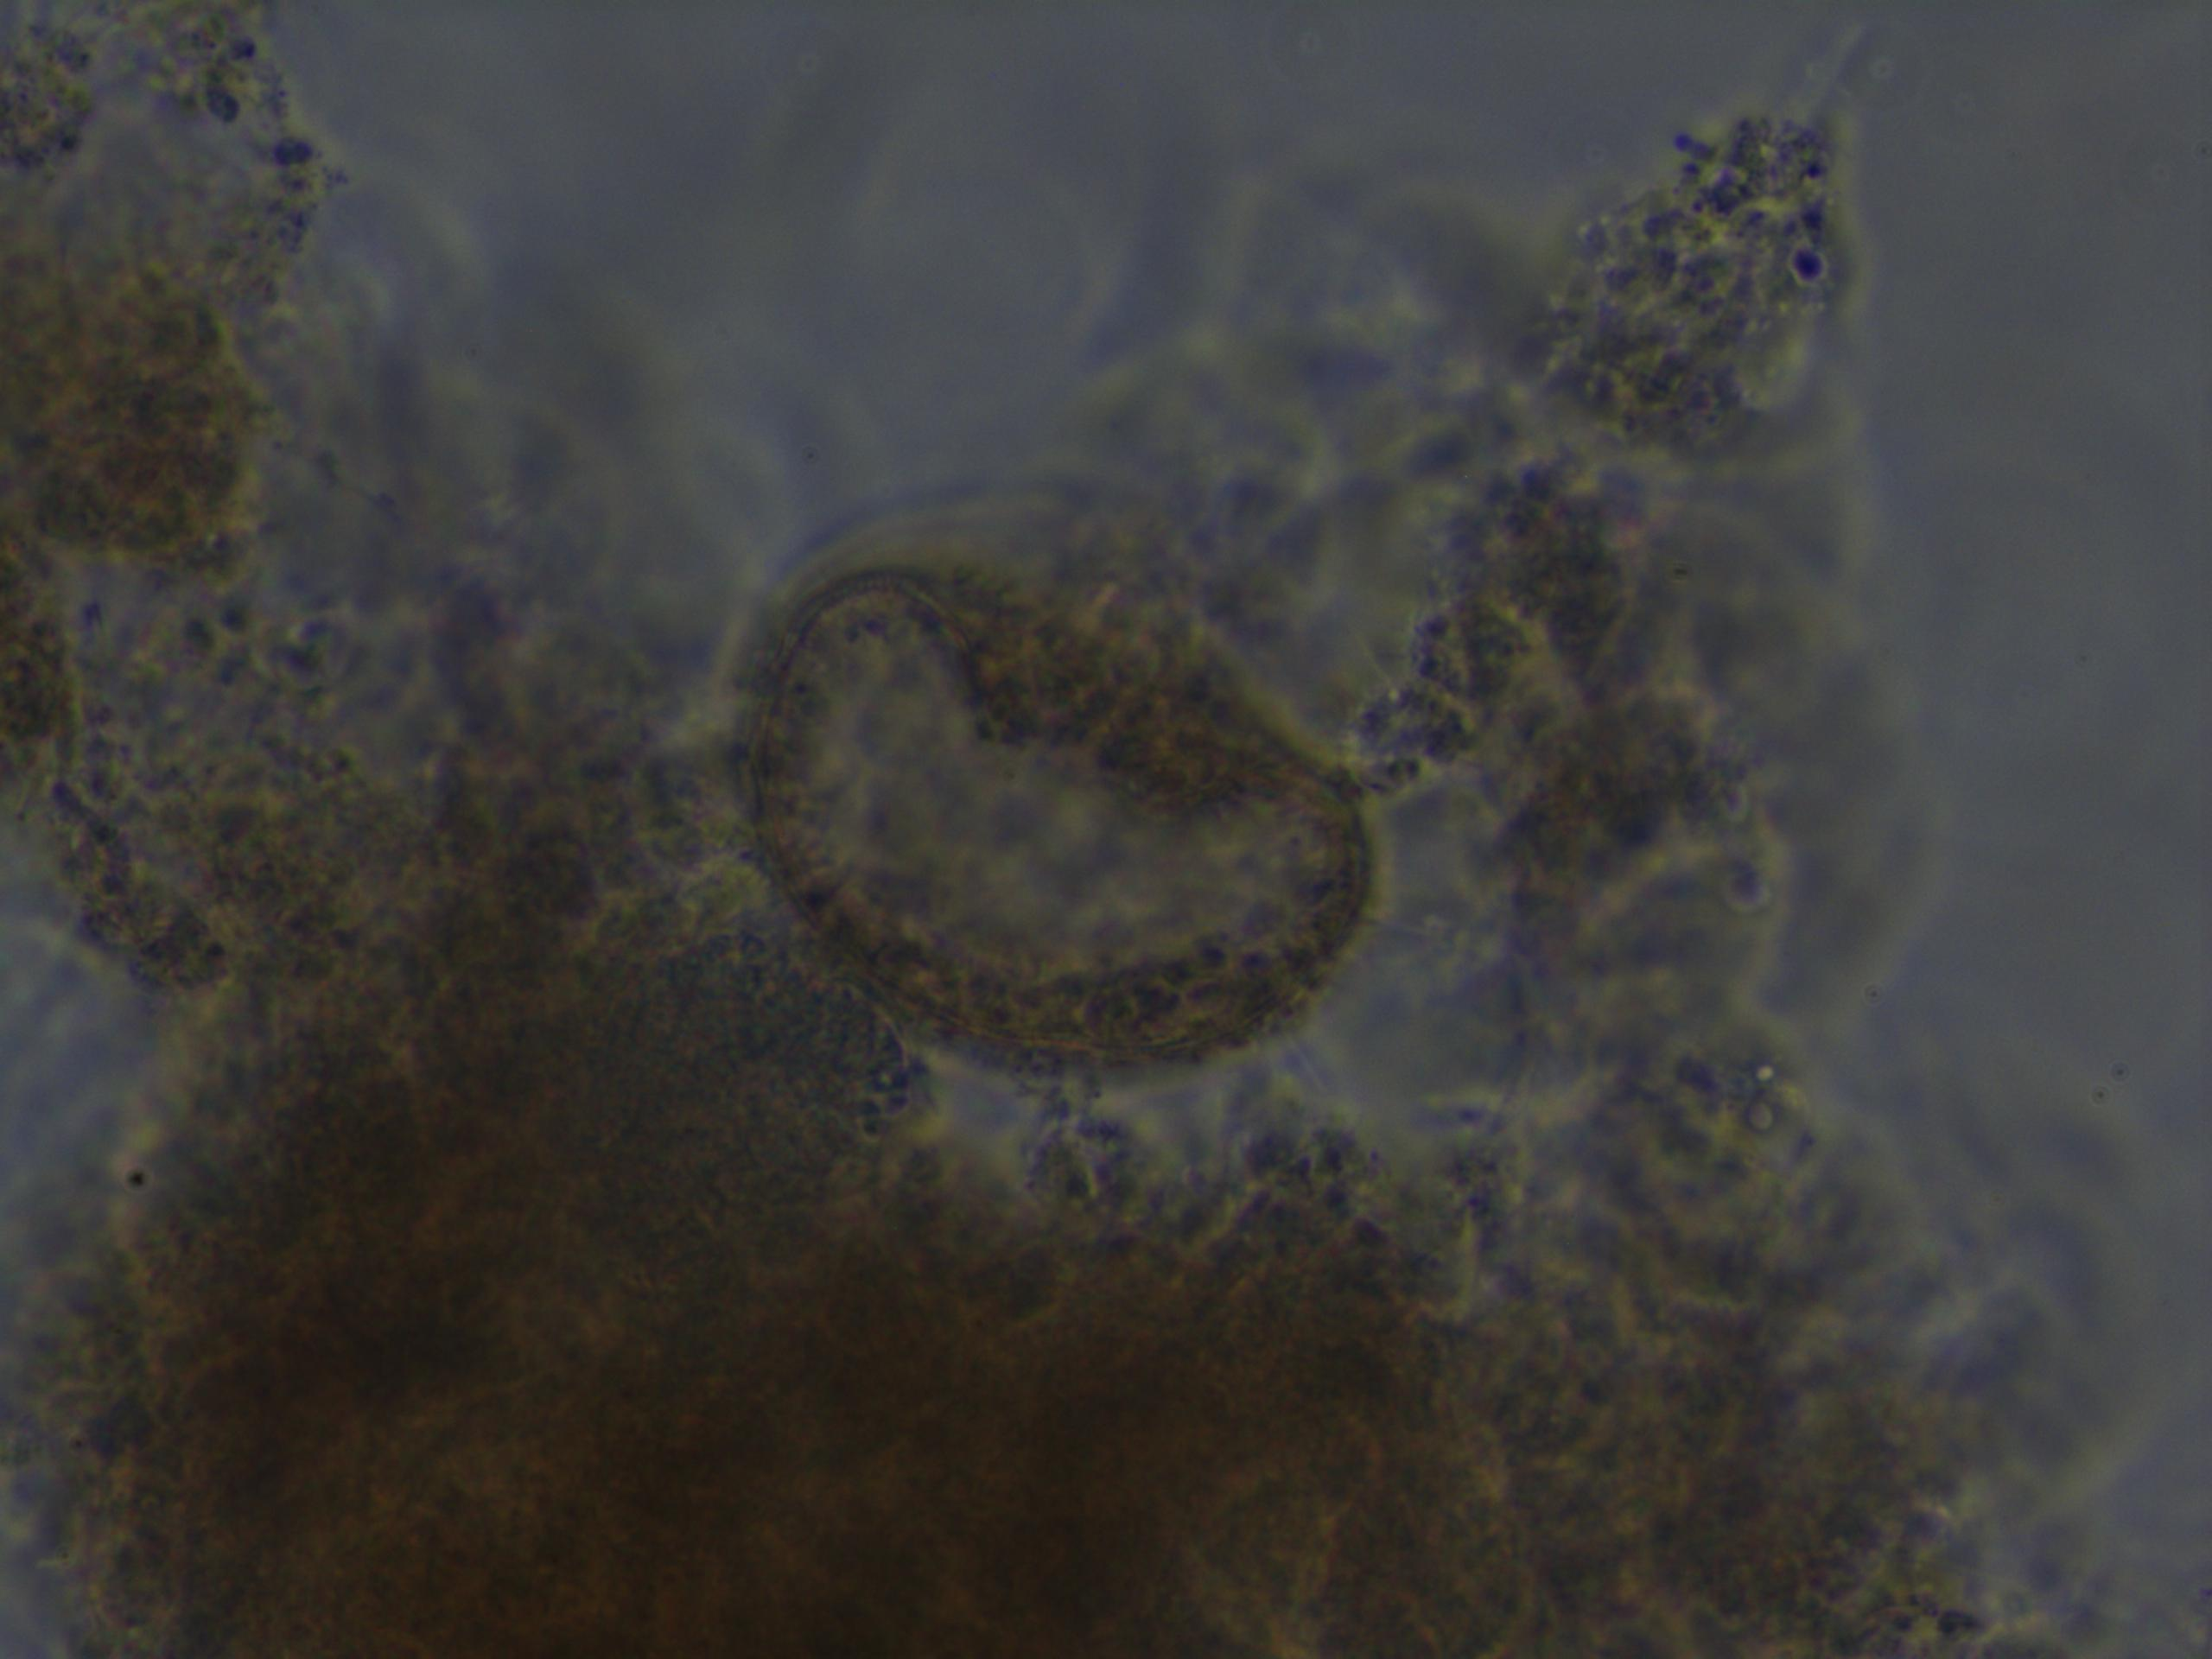protozoa: (719, 545, 1381, 1073)
